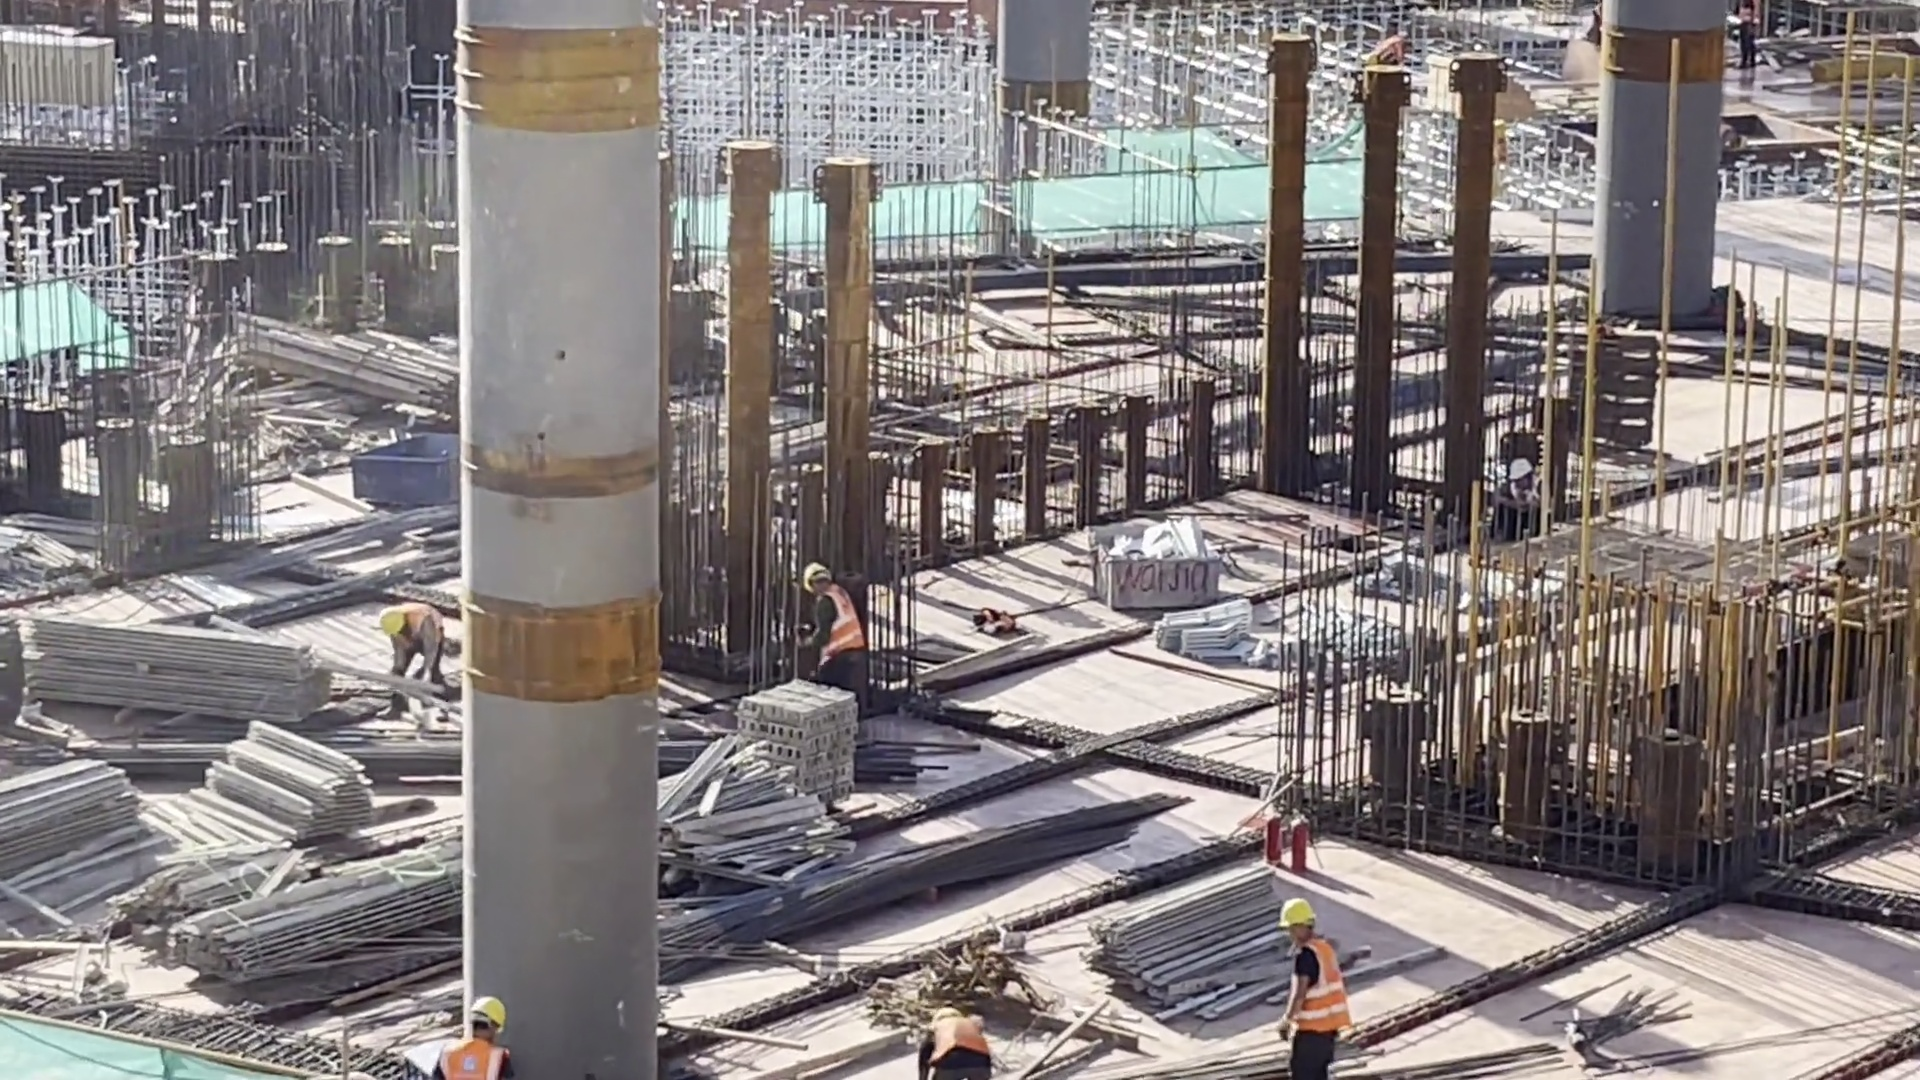helmet: (1276, 894, 1314, 939), (376, 611, 404, 651), (471, 997, 508, 1019), (1513, 454, 1528, 481), (813, 574, 833, 589)
hopper: (1088, 512, 1218, 614), (349, 426, 461, 511)
person: (1284, 895, 1362, 1080), (793, 558, 866, 690), (371, 605, 463, 701), (443, 988, 516, 1080), (924, 1000, 996, 1080), (1501, 455, 1546, 560), (1746, 10, 1778, 71), (1361, 28, 1403, 68), (1588, 5, 1614, 56)
rebar: (807, 810, 1154, 919), (221, 468, 499, 603), (48, 722, 471, 795), (1708, 434, 1920, 500)
vest: (1298, 951, 1341, 1049), (821, 591, 869, 661), (936, 1012, 993, 1067), (399, 604, 453, 657), (444, 1032, 500, 1080), (1373, 27, 1422, 59), (1503, 479, 1539, 516), (1745, 1, 1763, 34)
wood: (258, 302, 461, 429), (1, 21, 138, 109)
